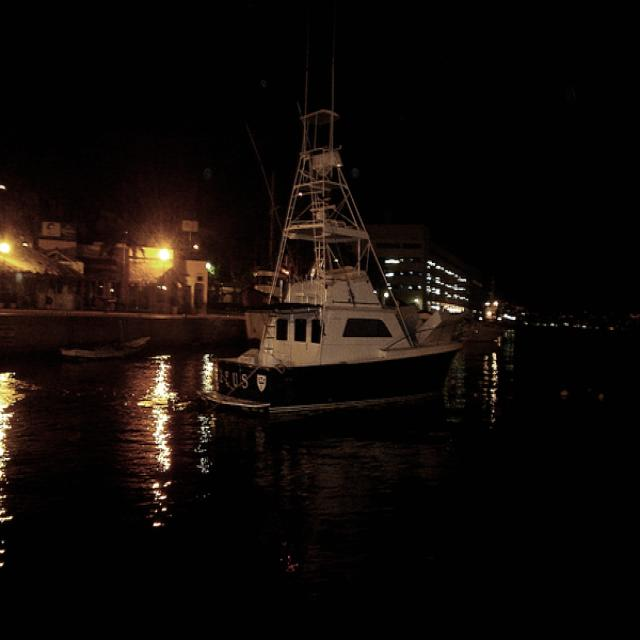Boat: (210, 131, 489, 443)
